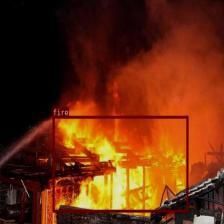fire: (52, 116, 188, 212)
